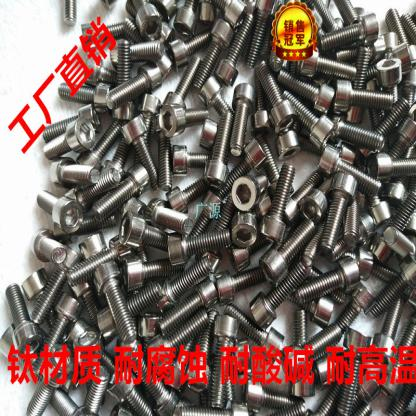FOD: (250, 261, 310, 328), (156, 278, 218, 336), (294, 255, 361, 305), (94, 262, 134, 344), (320, 172, 358, 254), (93, 165, 149, 220), (191, 20, 235, 90), (260, 162, 296, 246), (166, 226, 233, 266), (106, 60, 161, 106), (257, 58, 294, 126), (320, 9, 379, 51), (205, 112, 235, 188), (41, 116, 96, 157), (37, 187, 80, 234), (332, 113, 385, 150)
